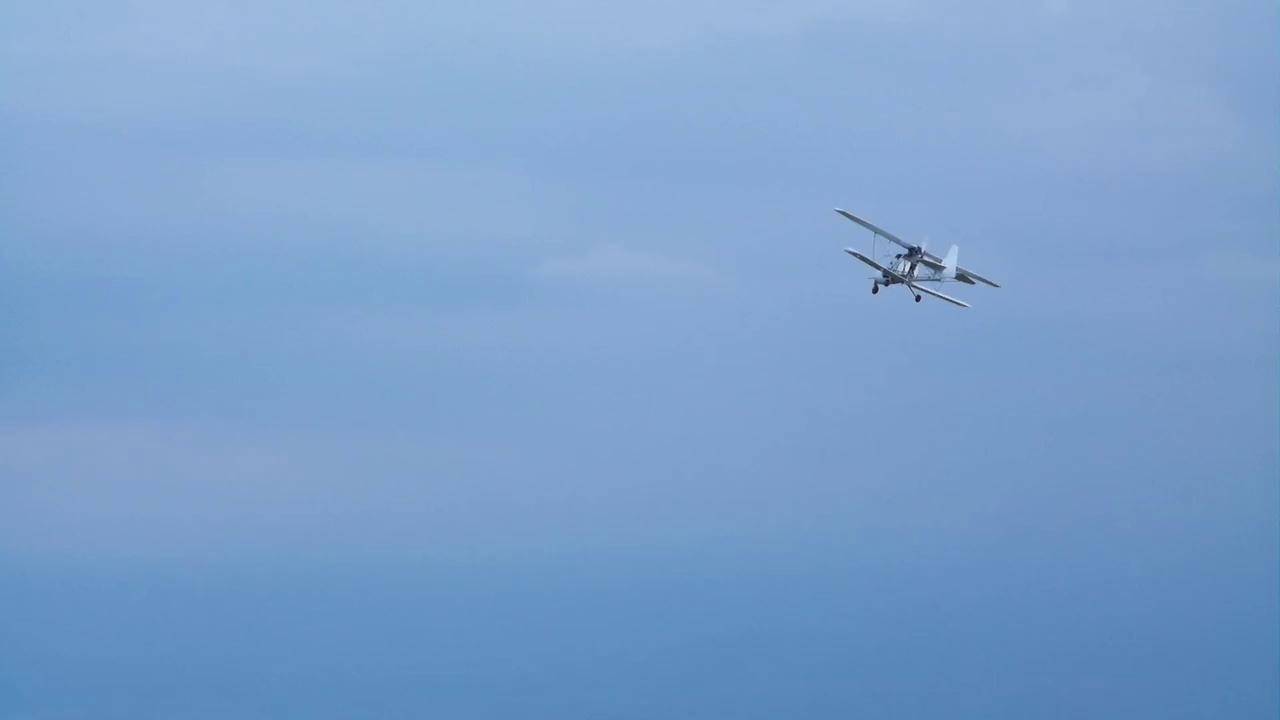plane: (835, 207, 999, 307)
